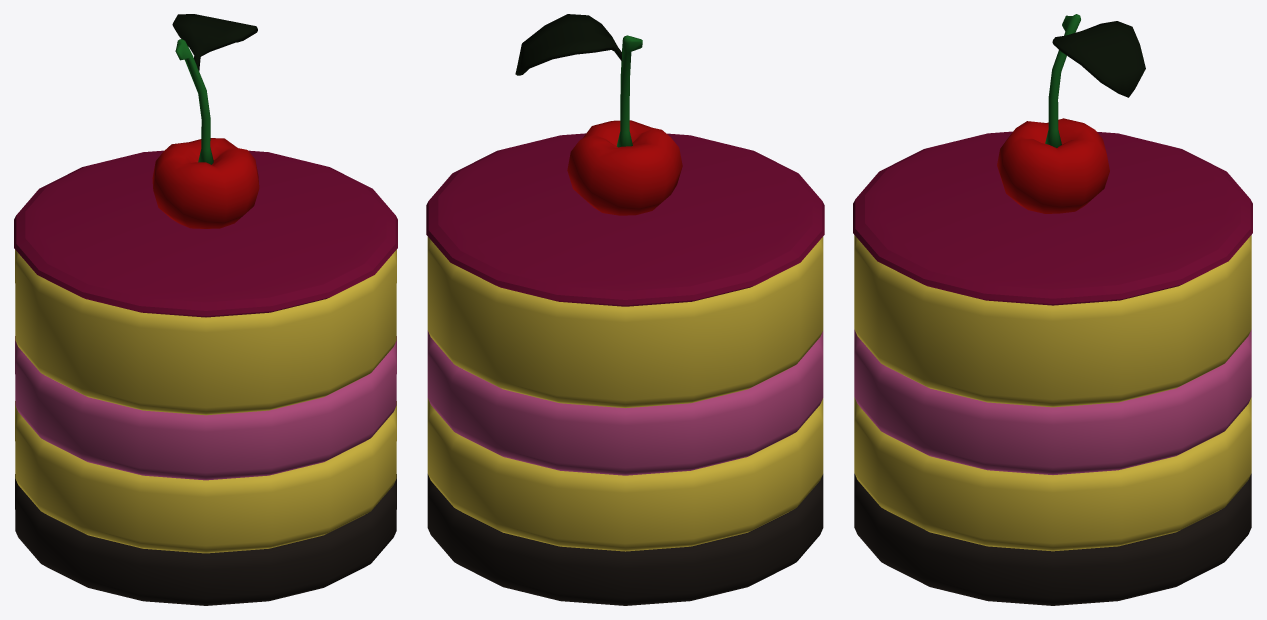
File: Panna Cotta_2.FBX
The picture shows the model from 3 angles, left to right: view 1: azimuth 30°, elevation 25°; view 2: azimuth 150°, elevation 25°; view 3: azimuth 270°, elevation 25°; orthographic projection. The views are drawn at different scales.
Parts seen in each view (by area): view 1: Panna Cotta_2; view 2: Panna Cotta_2; view 3: Panna Cotta_2.
Boxes of the visible parts, <box> form: Panna Cotta_2: <box>14,14,397,605</box>; Panna Cotta_2: <box>426,14,824,605</box>; Panna Cotta_2: <box>853,14,1252,605</box>.
Bounding box in the file's own units: 955 × 940 × 1308.
